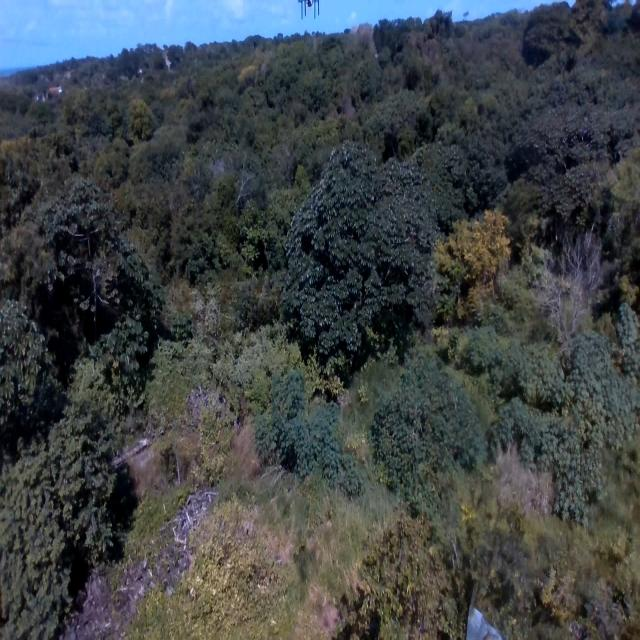-uav-: (294, 0, 331, 25)
